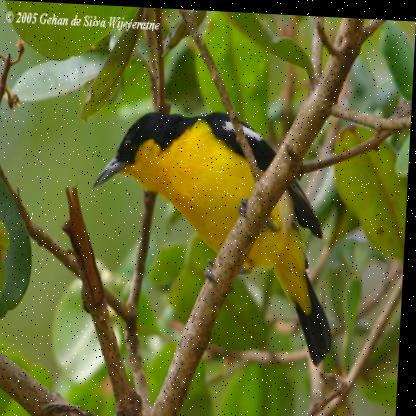Burung: (88, 104, 344, 364)
